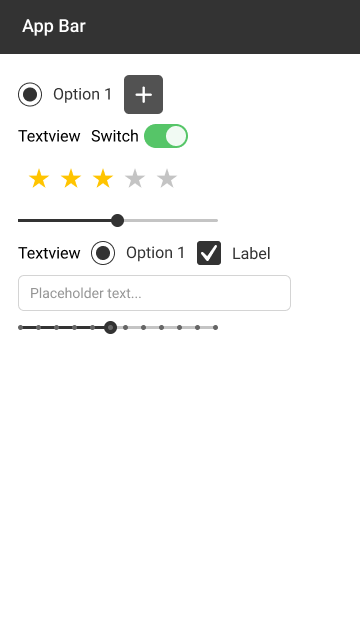buttonIcon: (124, 73, 164, 116)
checkBox: (195, 239, 273, 267)
editText: (16, 273, 293, 313)
radioButton: (14, 81, 112, 107), (91, 240, 184, 265)
ratingBar: (28, 167, 178, 190)
slider: (14, 320, 221, 334)
slider1: (14, 213, 224, 227)
switch: (90, 123, 189, 150)
textView: (16, 127, 82, 146), (18, 244, 82, 262)
toolbar: (1, 1, 360, 55)
